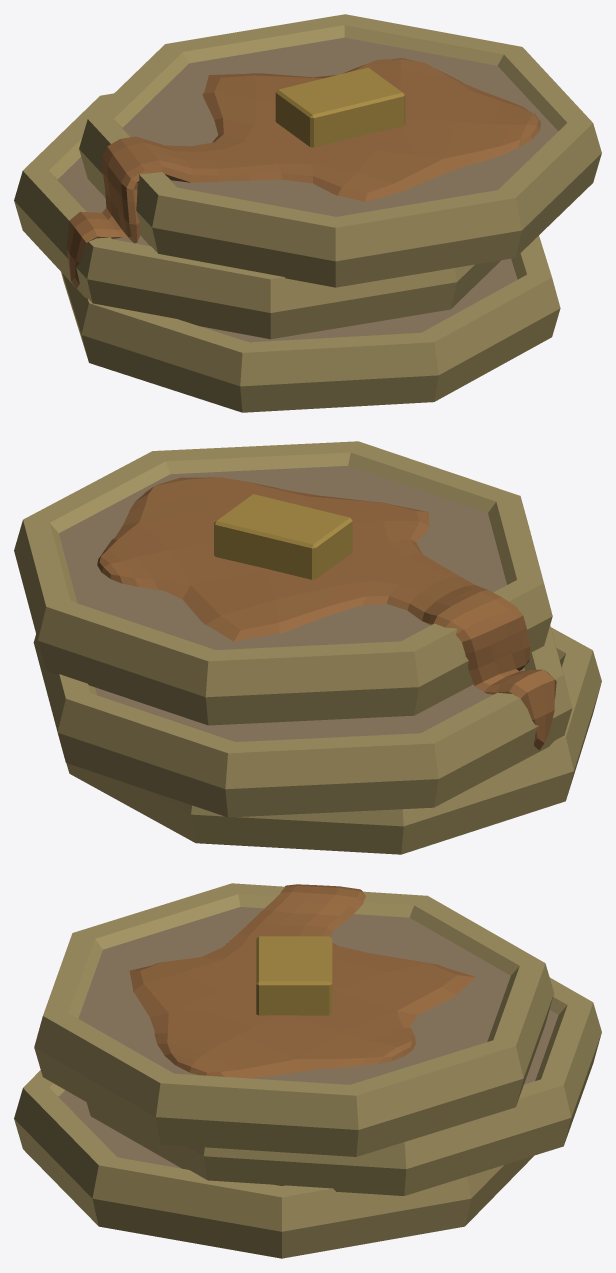
The model's file is food-Pancakes_Stack.glb.
The picture shows the model from 3 angles, top to bottom: view 1: azimuth 30°, elevation 25°; view 2: azimuth 150°, elevation 25°; view 3: azimuth 270°, elevation 25°; orthographic projection. The views are drawn at different scales.
Parts seen in each view (by area): view 1: Pancakes_Stack; view 2: Pancakes_Stack; view 3: Pancakes_Stack.
Part boxes in pixels (<box>): Pancakes_Stack: <box>14,14,601,412</box>; Pancakes_Stack: <box>14,441,601,854</box>; Pancakes_Stack: <box>14,883,601,1258</box>.
Bounding box in the file's own units: 1.58 × 0.6375 × 1.62.
